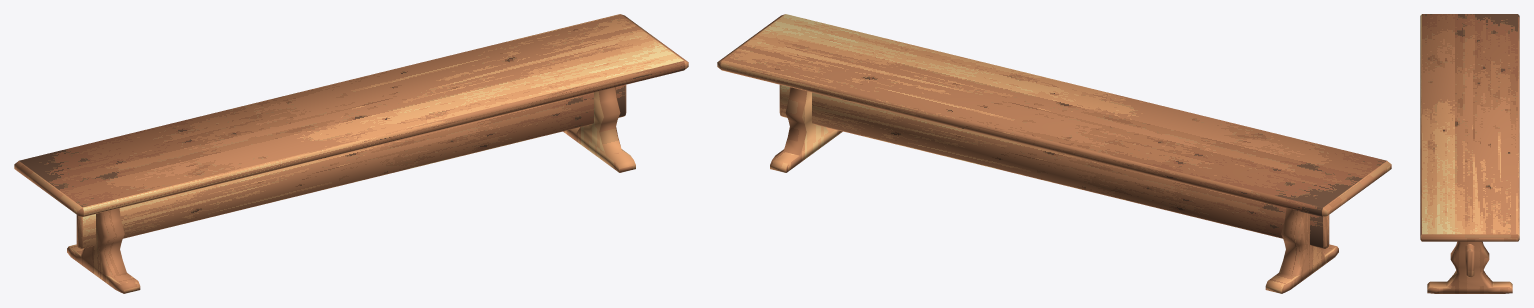
File: benchPs1KING.glb
3 views of the same model, side by side, from view 1: azimuth 30°, elevation 25°; view 2: azimuth 150°, elevation 25°; view 3: azimuth 270°, elevation 25° (orthographic). The views are drawn at different scales.
Visible parts, largest first — view 1: bench; view 2: bench; view 3: bench.
Part boxes in pixels (x1,y1,x2,y2): bench: [14, 14, 688, 293]; bench: [717, 14, 1391, 293]; bench: [1420, 14, 1519, 293].
Size of the model in its own units: 2.28 by 0.3572 by 0.4287.
Materials: 1 (1 with a texture image).
